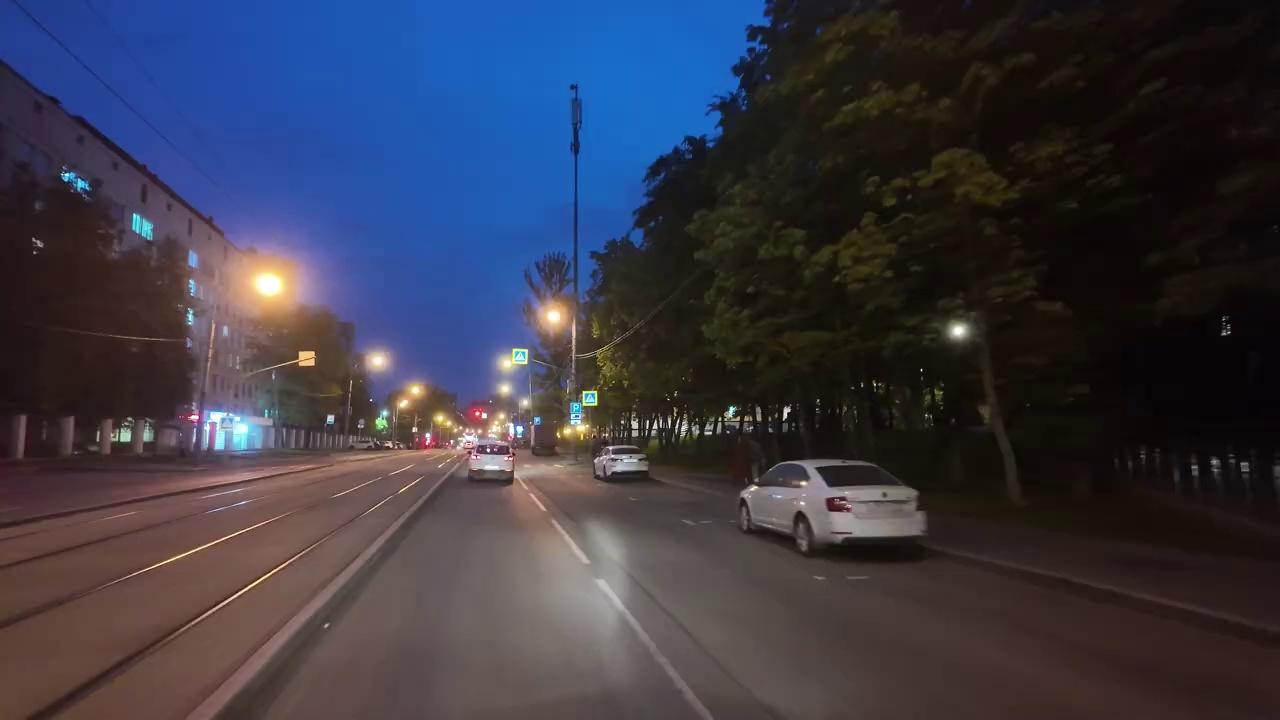acesa: (244, 264, 291, 310), (538, 300, 572, 334), (400, 382, 428, 406), (364, 348, 390, 373)
